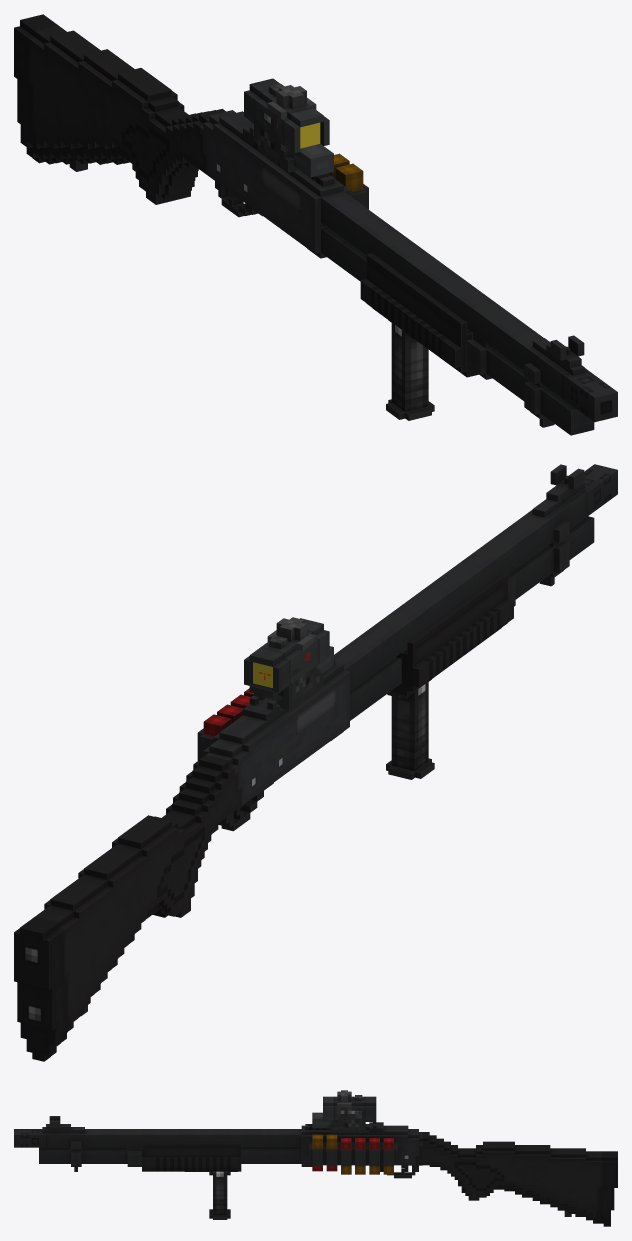
File: RD_REMINGTON870_SNOW.glb
The picture shows the model from 3 angles, top to bottom: view 1: azimuth 30°, elevation 25°; view 2: azimuth 150°, elevation 25°; view 3: azimuth 270°, elevation 25°; orthographic projection. The views are drawn at different scales.
Parts seen in each view (by area): view 1: REMINGTON870, REMINGTON870_FOREND, SCOPE_TASCO, GRIP1, SCOPE_EOTECH, SCOPE_HOLOSUN; view 2: REMINGTON870, REMINGTON870_FOREND, SCOPE_TASCO, GRIP1, SCOPE_EOTECH; view 3: REMINGTON870, REMINGTON870_FOREND, SCOPE_TASCO, GRIP1, SCOPE_EOTECH, SCOPE_HOLOSUN.
Boxes of the visible parts, box(x1,y1,x2,y2) form: REMINGTON870: box(14, 14, 617, 435); REMINGTON870_FOREND: box(360, 253, 478, 377); SCOPE_TASCO: box(244, 78, 329, 167); GRIP1: box(386, 320, 434, 420); SCOPE_EOTECH: box(254, 110, 333, 177); SCOPE_HOLOSUN: box(257, 98, 316, 165); REMINGTON870: box(14, 464, 617, 1061); REMINGTON870_FOREND: box(389, 572, 513, 696); SCOPE_TASCO: box(244, 617, 329, 709); GRIP1: box(386, 679, 434, 779); SCOPE_EOTECH: box(254, 646, 333, 709); REMINGTON870: box(14, 1116, 617, 1226); REMINGTON870_FOREND: box(142, 1142, 241, 1171); SCOPE_TASCO: box(323, 1090, 376, 1132); GRIP1: box(185, 1171, 237, 1219); SCOPE_EOTECH: box(312, 1110, 365, 1132); SCOPE_HOLOSUN: box(337, 1102, 365, 1132).
Size of the model in its own units: 0.1279 by 0.4034 by 1.67.
Materials: 8 (8 with a texture image).
